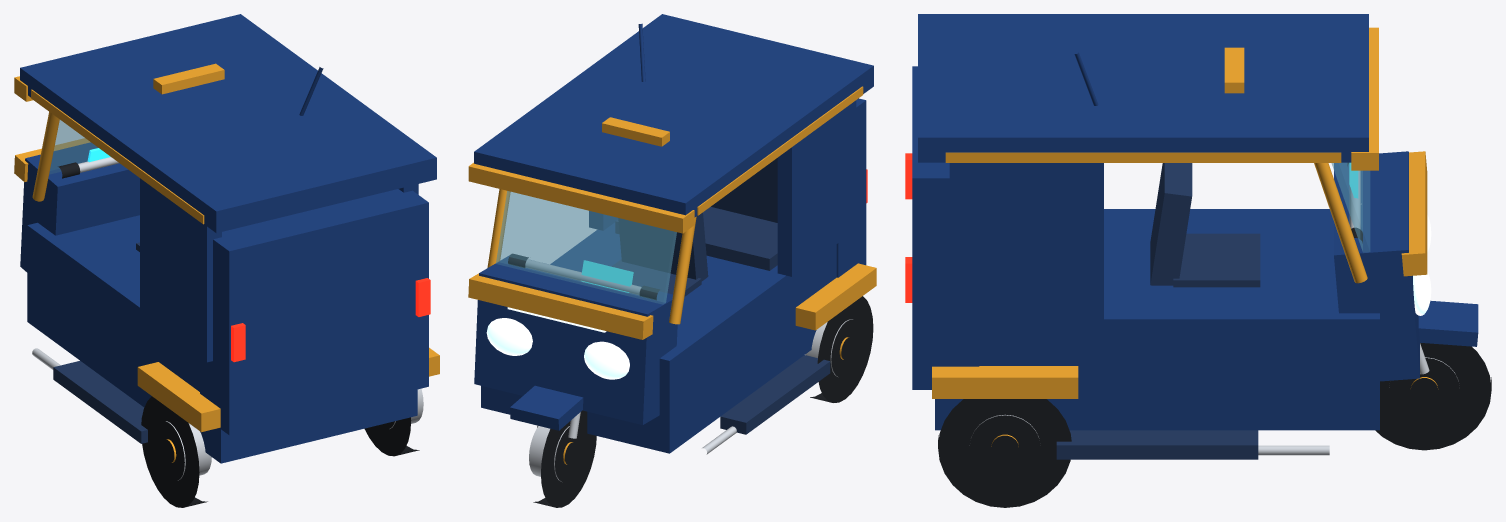
Rendered from sarthi-auto-3d.glb.
3 views of the same model, side by side, from view 1: azimuth 30°, elevation 25°; view 2: azimuth 150°, elevation 25°; view 3: azimuth 270°, elevation 25° (orthographic). The views are drawn at different scales.
Visible parts, largest first — view 1: Sarthi Auto Rickshaw; view 2: Sarthi Auto Rickshaw; view 3: Sarthi Auto Rickshaw.
Boxes of the visible parts, bbox=[...] form: Sarthi Auto Rickshaw: bbox=[14, 14, 439, 507]; Sarthi Auto Rickshaw: bbox=[468, 14, 876, 507]; Sarthi Auto Rickshaw: bbox=[905, 14, 1491, 507].
Size of the model in its own units: 1.68 by 2.38 by 2.97.
